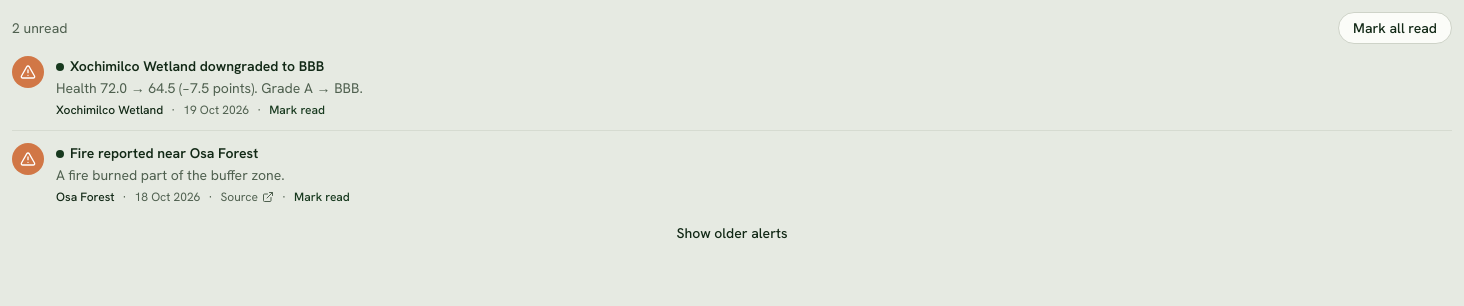
AlertsList › shows older alerts a page at a time
Step 1. Click the button "Show older alerts" → click(732, 233), box [12,217,1452,249]
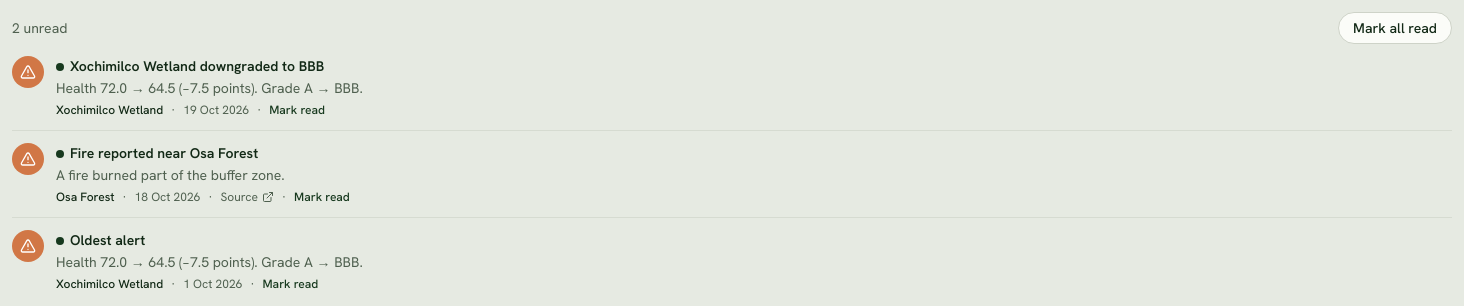
Expected: the text "Oldest alert" is shown, [56,230,196,249]
Expected: the button "Show older alerts" is gone
